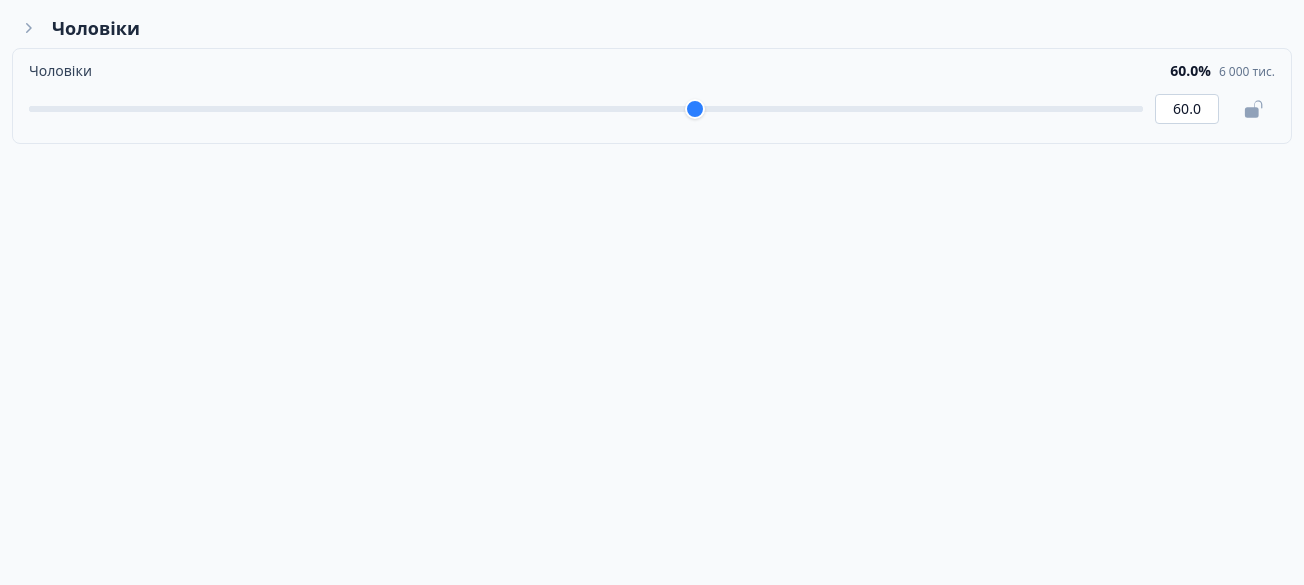
Test: TreePanel deviation warnings › shows positive deviation warning when industries sum over 100%
Click the button with aria-label "expand чоловіки" at (96, 28), box [12,12,1292,44]
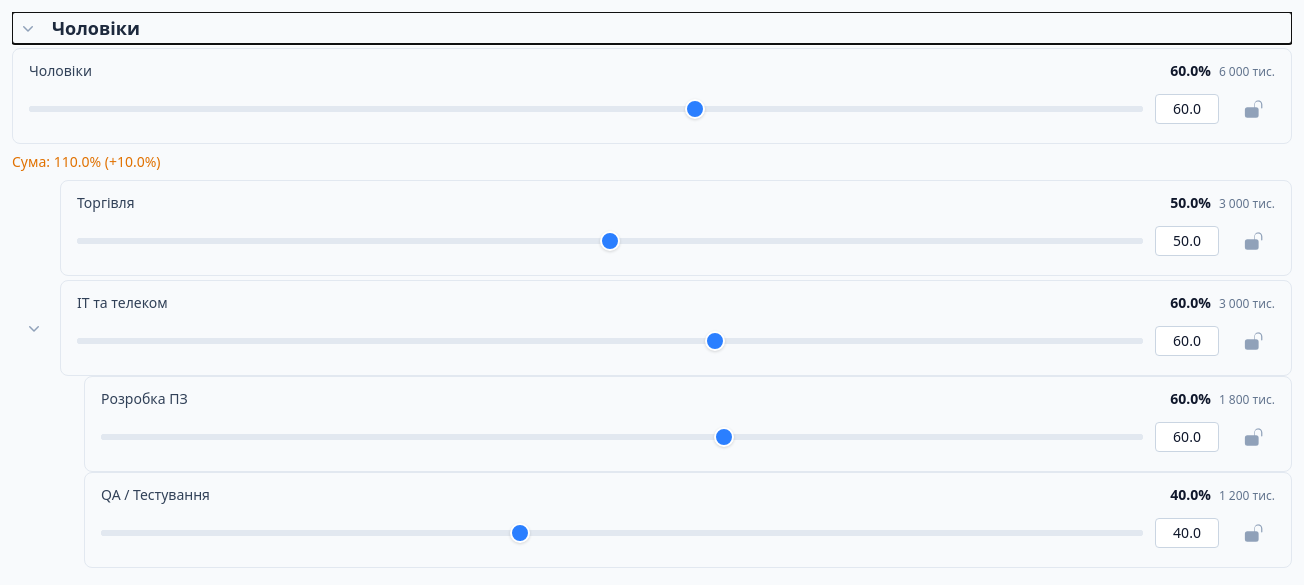
Expected: the message reads "Сума: 110.0% (+10.0%)", [12,152,161,171]
